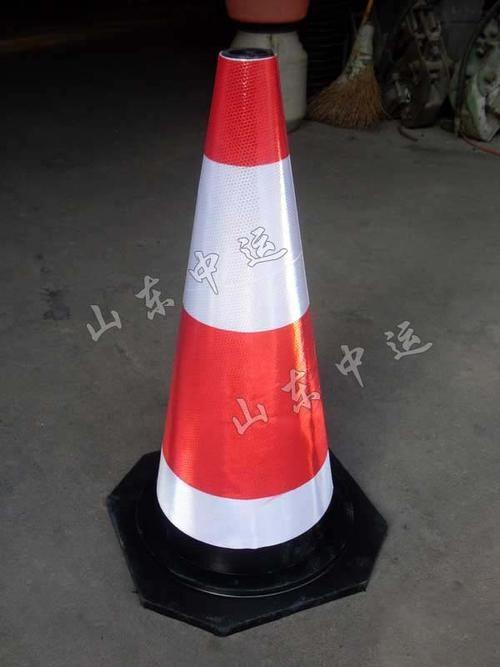cone_barrel: (131, 45, 363, 577)
